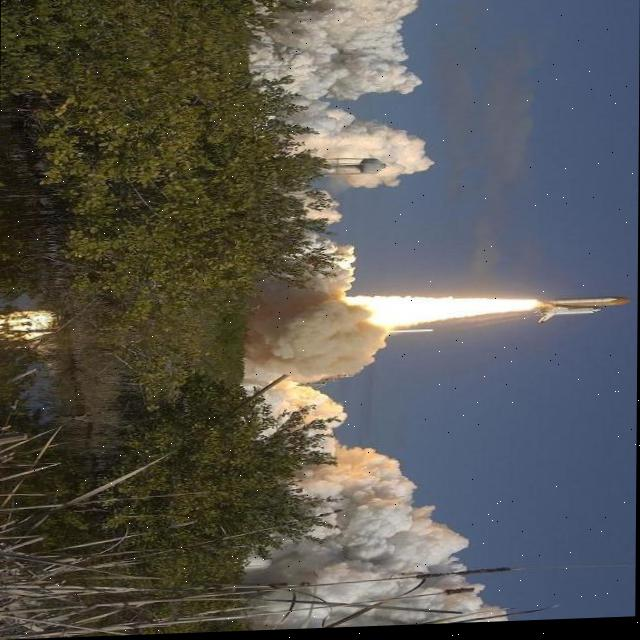missile: (532, 293, 634, 333)
